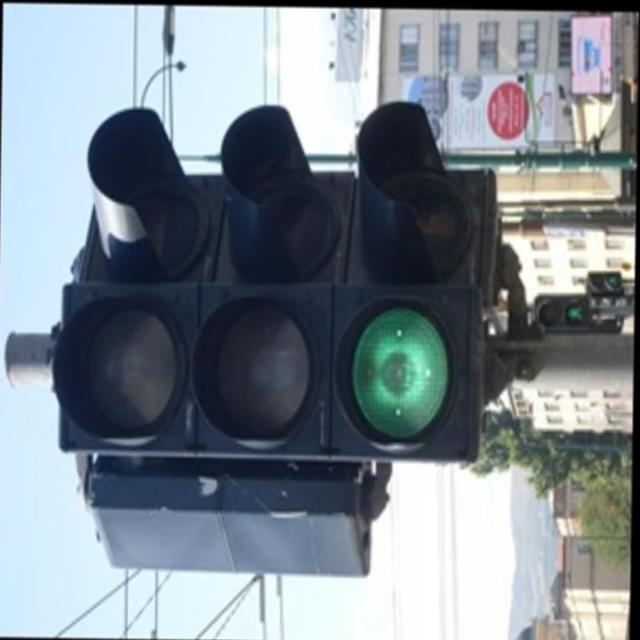green light: (61, 284, 481, 463)
